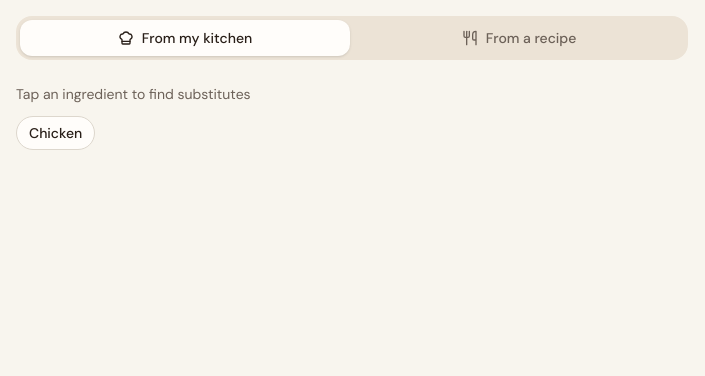
Test: SubstitutesScreen — full-recipe character counter › shows "0 / 8,000" initially
The image size is (705, 376).
Click the button "From a recipe" at (519, 38), box [354,20,684,56]
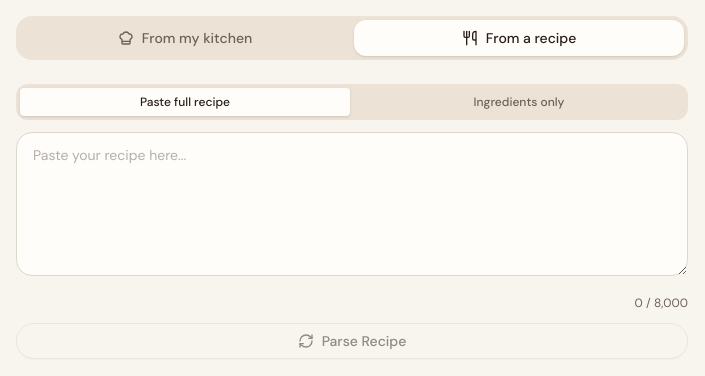
expect the text "0 / 8,000" is shown: met, box [635,295,688,311]
